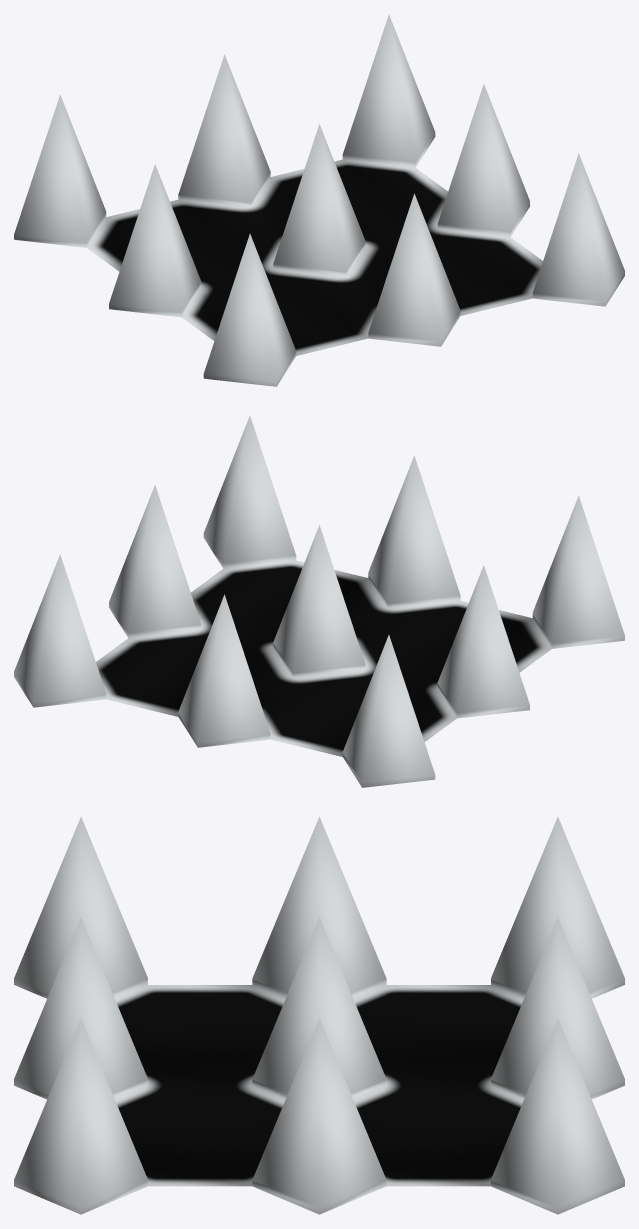
Rendered from hazard_block_-_spikes.obj.
3 renders of one model, top to bottom at view 1: azimuth 30°, elevation 25°; view 2: azimuth 150°, elevation 25°; view 3: azimuth 270°, elevation 25°, orthographic. The views are drawn at different scales.
Visible parts, largest first — view 1: Spikes; view 2: Spikes; view 3: Spikes.
Boxes of the visible parts, x1,y1,x2,y2 form: Spikes: [14, 14, 624, 386]; Spikes: [14, 415, 624, 787]; Spikes: [14, 816, 624, 1214].
Bounding box in the file's own units: 1.62 × 0.494 × 1.62.
Materials: 1 (1 with a texture image).
